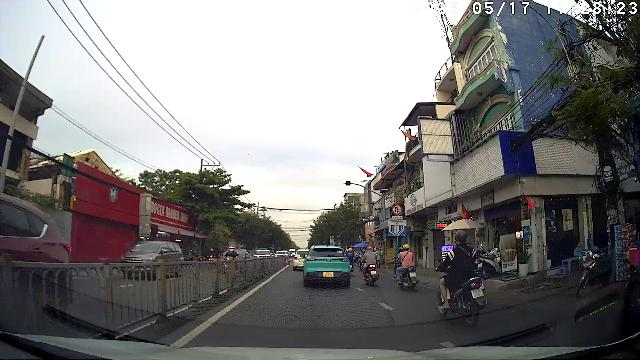124b-cam-oto-quay-dau-xe: (392, 204, 403, 215)
